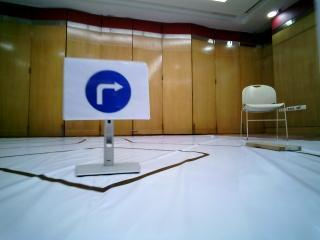right: (68, 58, 146, 119)
